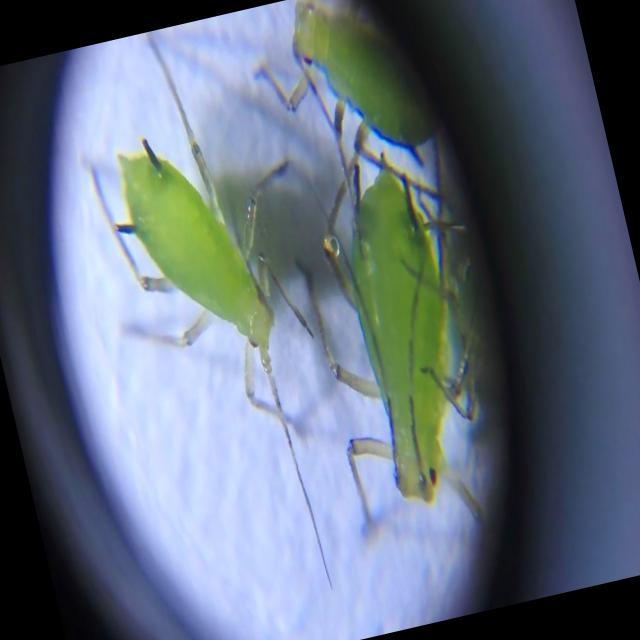aphid: (67, 79, 349, 549), (288, 139, 530, 558), (238, 0, 455, 186)
